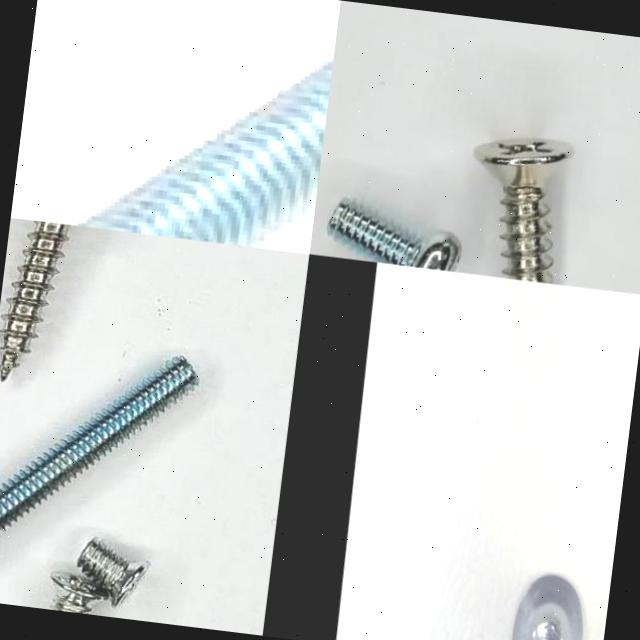Screw: (81, 62, 332, 248), (0, 356, 199, 532), (474, 140, 574, 284), (0, 220, 69, 380), (328, 200, 459, 272), (51, 538, 149, 614), (512, 574, 582, 640)
